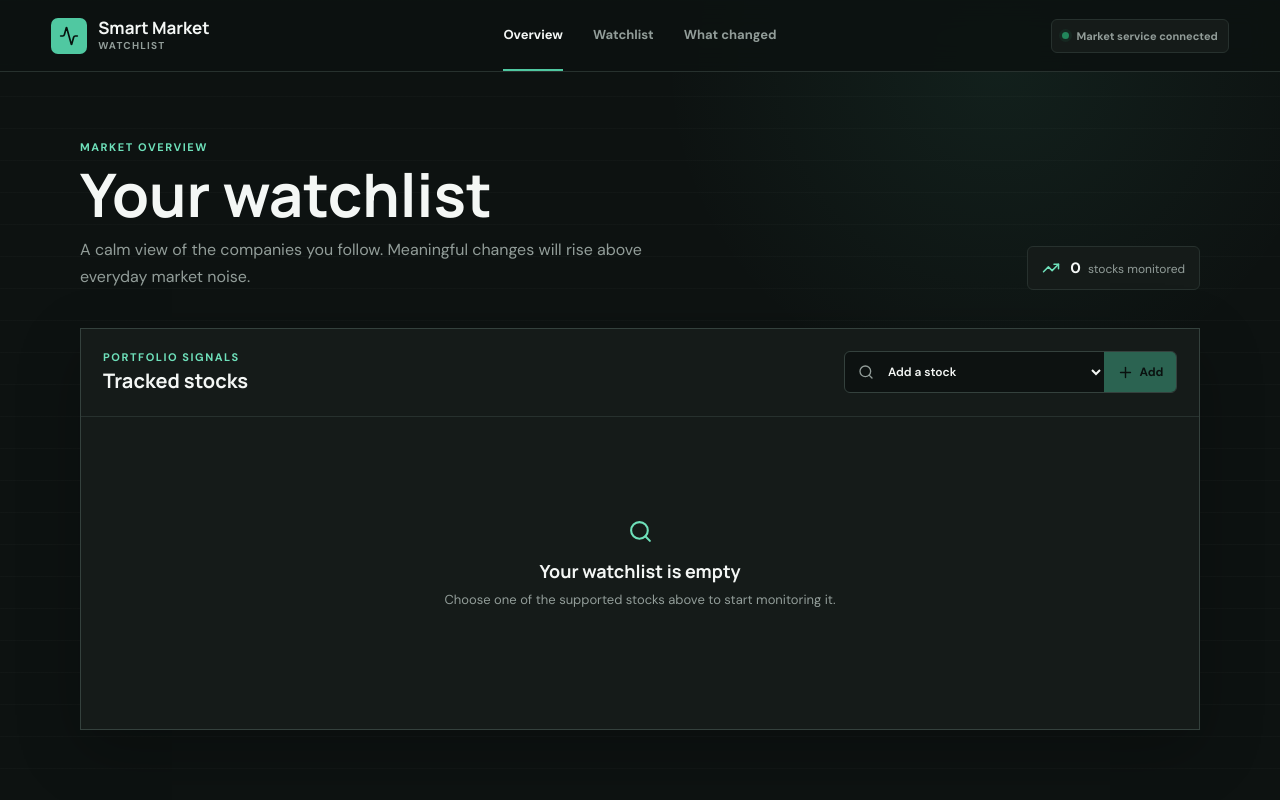
Test: App foundation › adds a selected stock and refreshes the list
Select "TCS · Tata Consultancy Services" in the dropdown named "Choose a stock" at point(989, 372), box x1=874 y1=352 x2=1104 y2=392
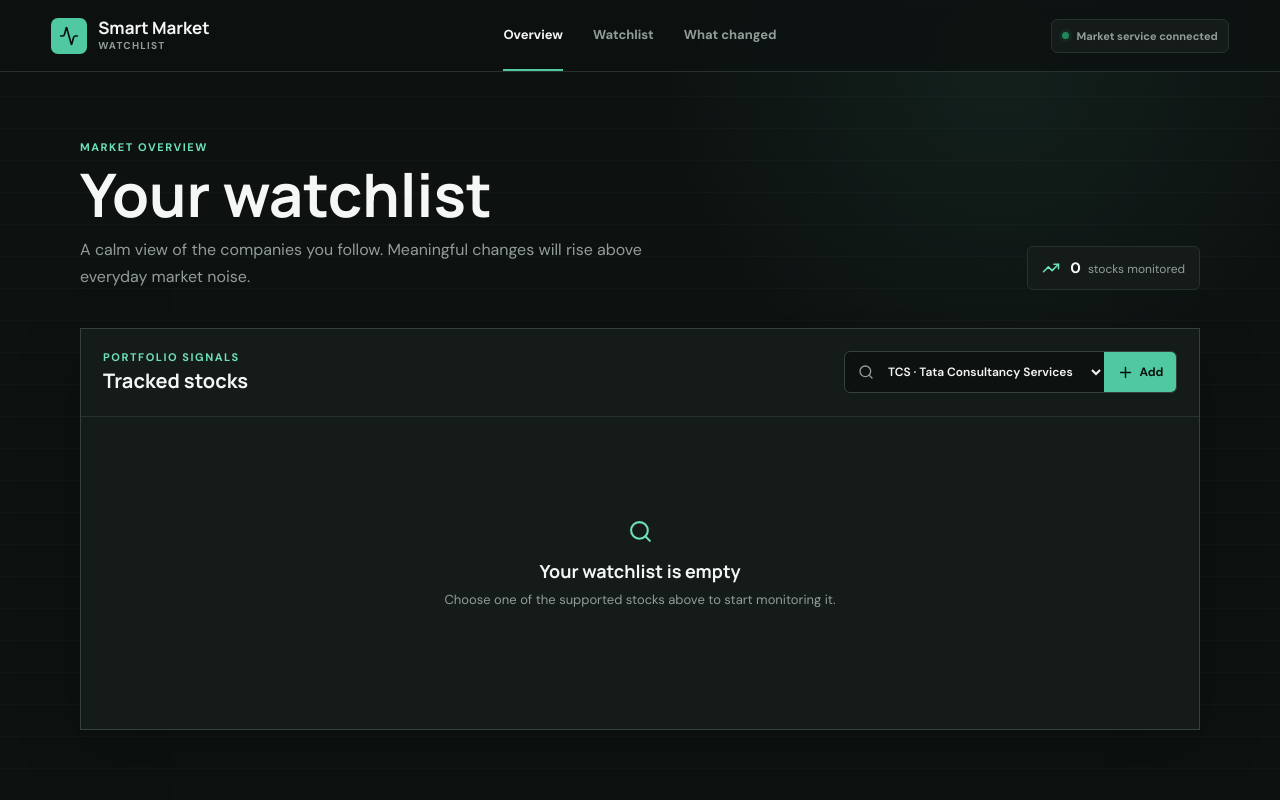
Click the button with aria-label "Add selected stock" at point(1140, 372), box x1=1104 y1=352 x2=1176 y2=392
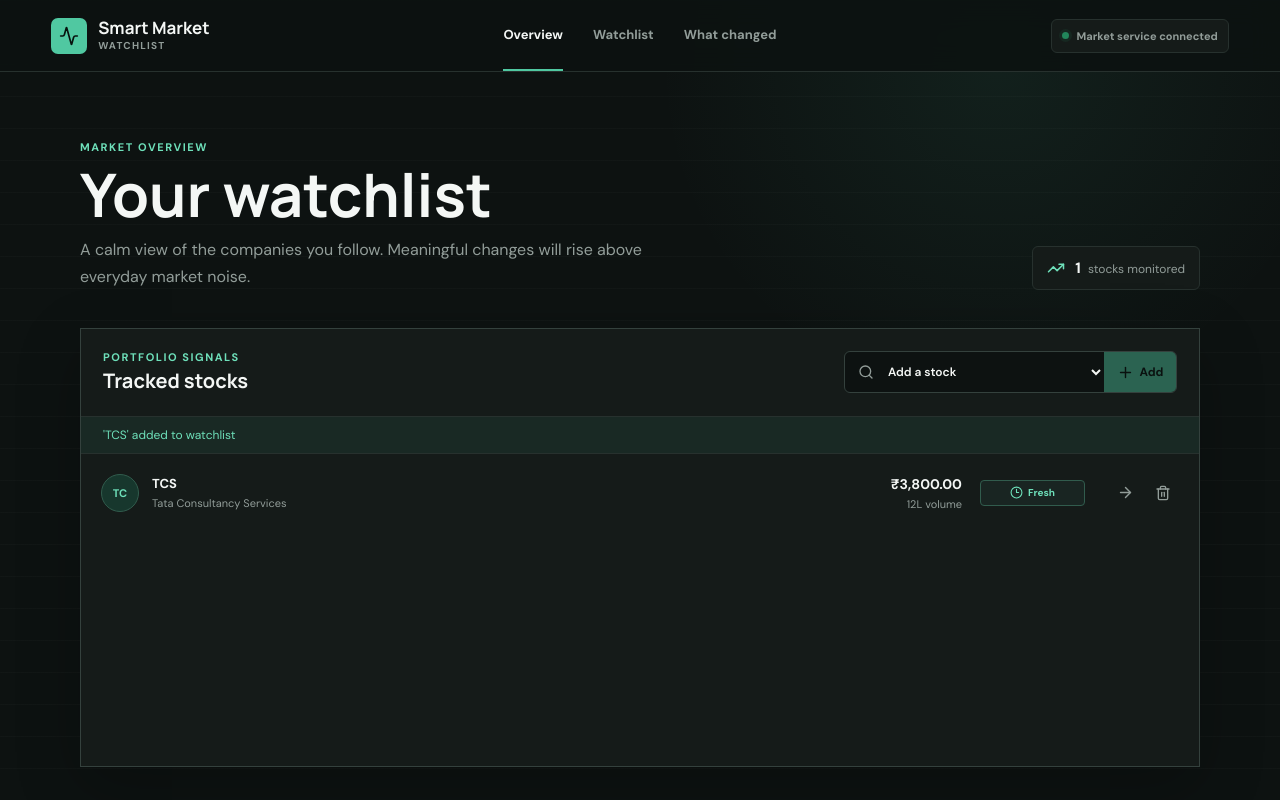
Expected: the text "'TCS' added to watchlist" is shown, x1=81 y1=417 x2=1199 y2=454
Expected: the text "Tata Consultancy Services" is shown, x1=152 y1=496 x2=287 y2=510
